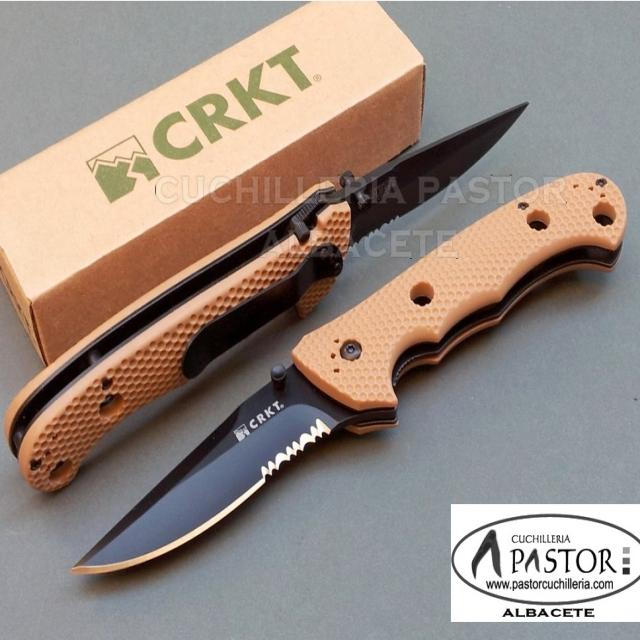knife: (60, 166, 631, 583), (5, 95, 537, 506)
